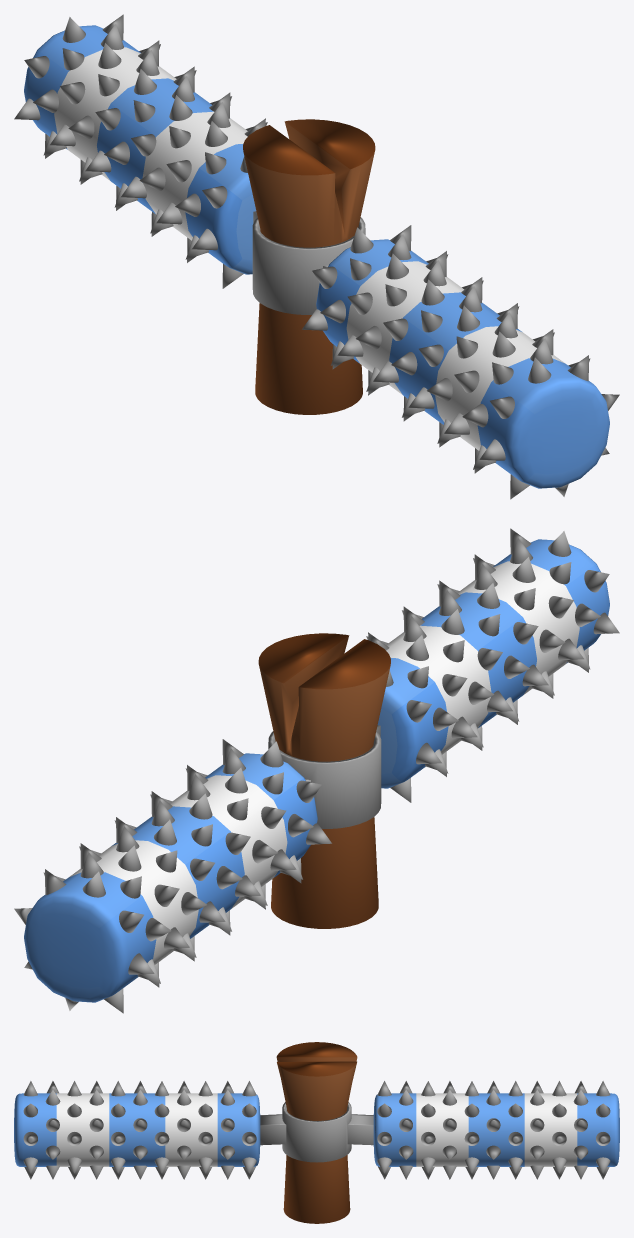
Rendered from trapcirclespikedoubleblue.fbx.
3 views of the same model, one above another, from view 1: azimuth 30°, elevation 25°; view 2: azimuth 150°, elevation 25°; view 3: azimuth 270°, elevation 25° (orthographic). The views are drawn at different scales.
Parts seen in each view (by area): view 1: Cylinder.025, Cylinder.024; view 2: Cylinder.025, Cylinder.024; view 3: Cylinder.025, Cylinder.024.
Part boxes in pixels (x1=…): Cylinder.025: x1=14, y1=14, x2=619, y2=499; Cylinder.024: x1=243, y1=119, x2=375, y2=414; Cylinder.025: x1=14, y1=528, x2=619, y2=1013; Cylinder.024: x1=258, y1=633, x2=390, y2=928; Cylinder.025: x1=14, y1=1081, x2=619, y2=1179; Cylinder.024: x1=276, y1=1042, x2=357, y2=1223.
Size of the model in its own units: 13.73 by 22.84 by 83.33.
1 material, 1 textured.
